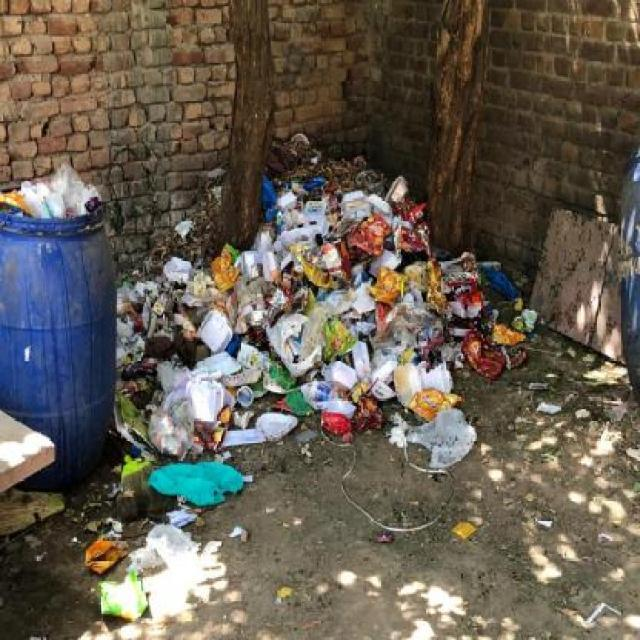garbage: (1, 70, 640, 639)
